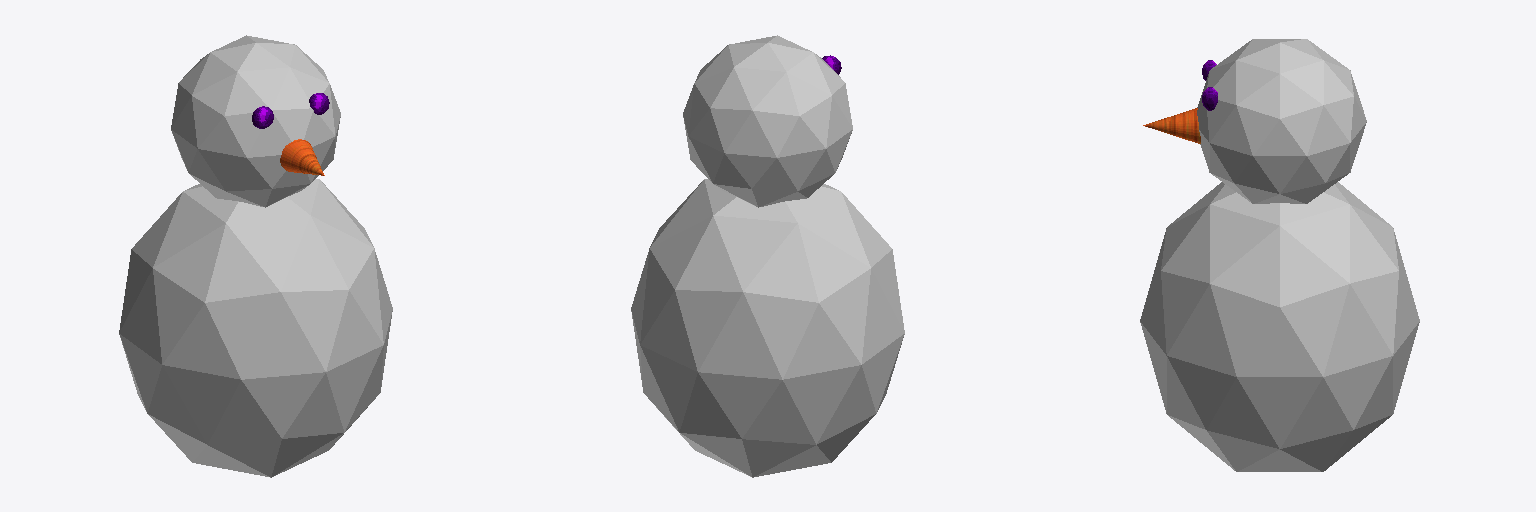
3 renders of one model, left to right at view 1: azimuth 30°, elevation 25°; view 2: azimuth 150°, elevation 25°; view 3: azimuth 270°, elevation 25°, orthographic.
Parts seen in each view (by area): view 1: Icosphere; view 2: Icosphere; view 3: Icosphere.
Part boxes in pixels (left/top/right/bottom): Icosphere: left=119, top=35, right=392, bottom=477; Icosphere: left=631, top=35, right=904, bottom=477; Icosphere: left=1140, top=39, right=1419, bottom=471.
Bounding box in the file's own units: 1.3 × 2.3 × 1.37.
2 materials, 1 textured.